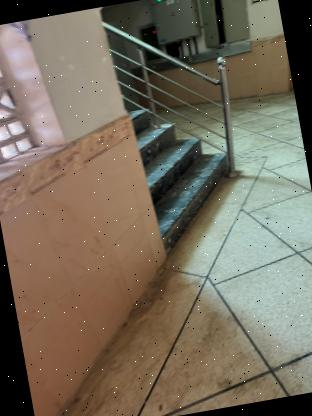stair: (122, 88, 240, 256)
